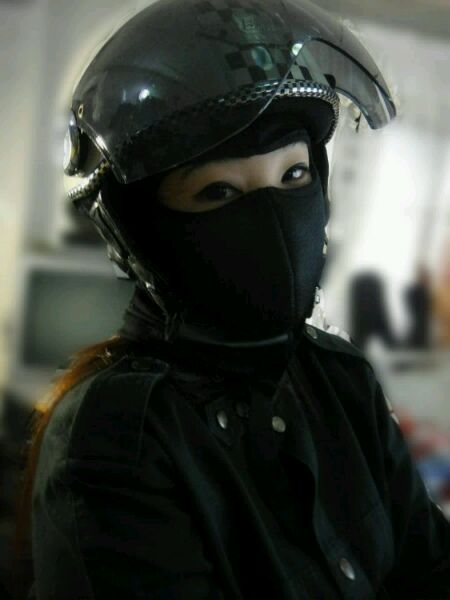face_mask: (163, 87, 322, 335)
